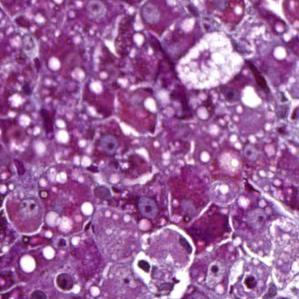ballooning: (175, 31, 245, 94)
